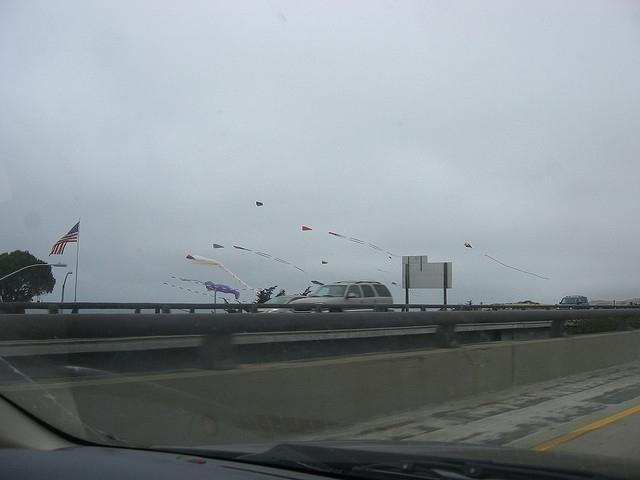car: (283, 281, 402, 314), (256, 296, 306, 314), (556, 295, 590, 310)
truck: (286, 278, 394, 314)
